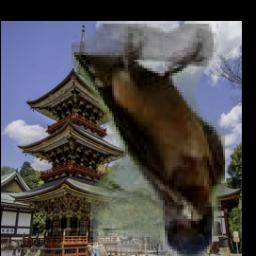Swallow: (72, 25, 226, 256)
